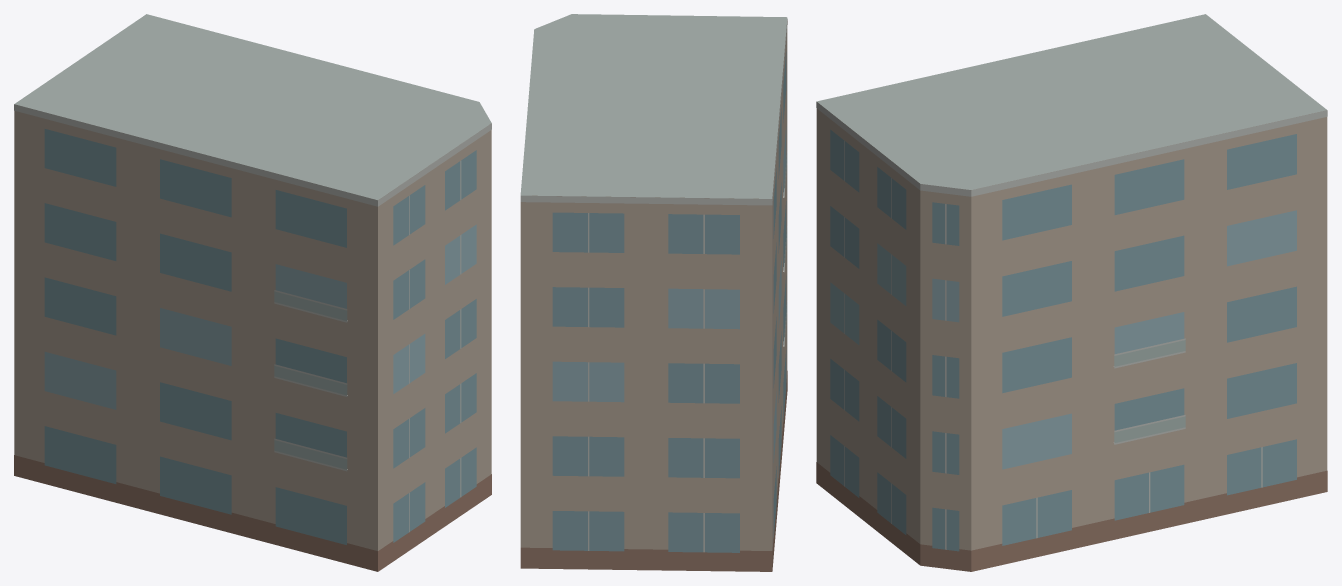
The model's file is survey-upis-32891462.glb.
The picture shows the model from 3 angles, left to right: view 1: azimuth 30°, elevation 25°; view 2: azimuth 150°, elevation 25°; view 3: azimuth 270°, elevation 25°; orthographic projection. The views are drawn at different scales.
Parts seen in each view (by area): view 1: survey-upis-32891462.tmp; view 2: survey-upis-32891462.tmp; view 3: survey-upis-32891462.tmp.
Part boxes in pixels (box(x1,y1,x2,y2)): survey-upis-32891462.tmp: box(14, 14, 491, 571); survey-upis-32891462.tmp: box(520, 14, 787, 571); survey-upis-32891462.tmp: box(816, 14, 1327, 571).
Size of the model in its own units: 13.81 by 13.95 by 16.93.
